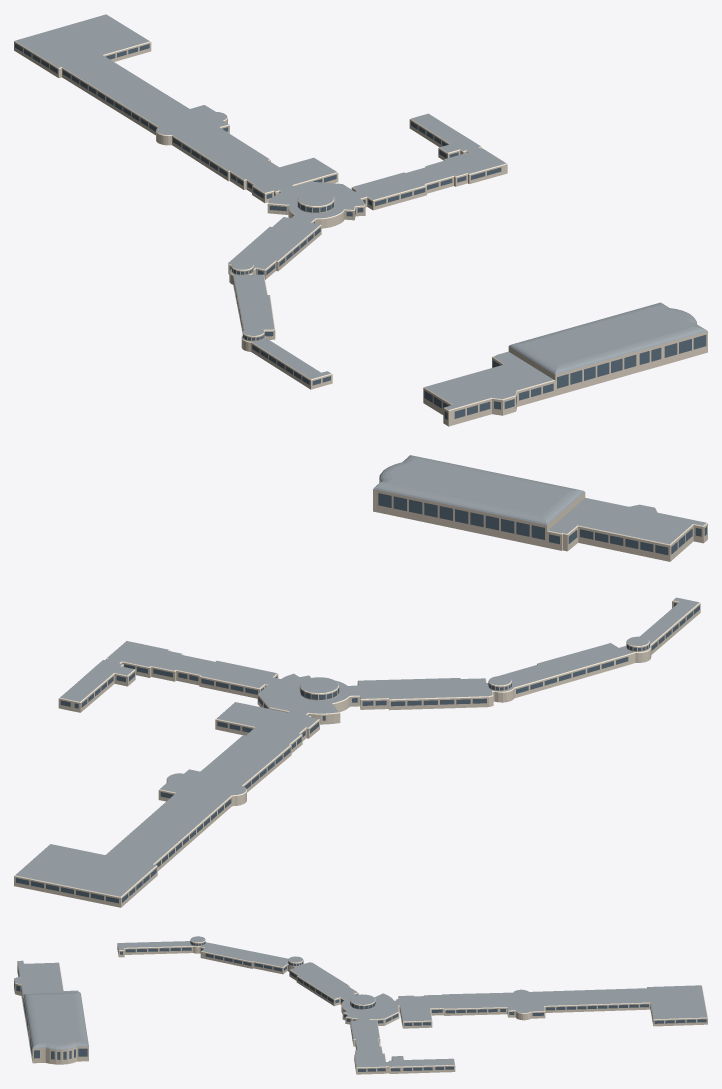
The model's file is detail.glb.
3 views of the same model, one above another, from view 1: azimuth 30°, elevation 25°; view 2: azimuth 150°, elevation 25°; view 3: azimuth 270°, elevation 25° (orthographic). The views are drawn at different scales.
Visible parts, largest first — view 1: charlotte-douglas-international-airport-concourses-d-and-e; view 2: charlotte-douglas-international-airport-concourses-d-and-e; view 3: charlotte-douglas-international-airport-concourses-d-and-e.
Part boxes in pixels (bbox=[...]): charlotte-douglas-international-airport-concourses-d-and-e: bbox=[14, 14, 707, 426]; charlotte-douglas-international-airport-concourses-d-and-e: bbox=[14, 455, 707, 907]; charlotte-douglas-international-airport-concourses-d-and-e: bbox=[14, 936, 707, 1074].
Bounding box in the file's own units: 258 × 16 × 591.
